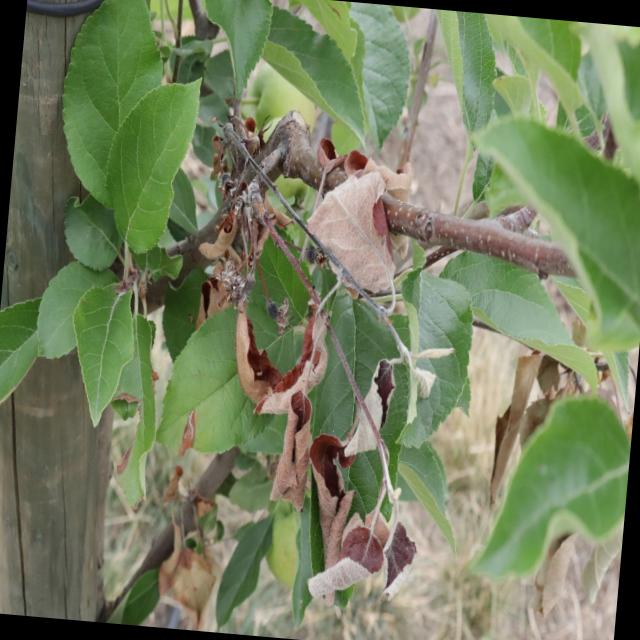-FireBlight-: (193, 164, 329, 505), (300, 427, 423, 596), (294, 130, 409, 294)
